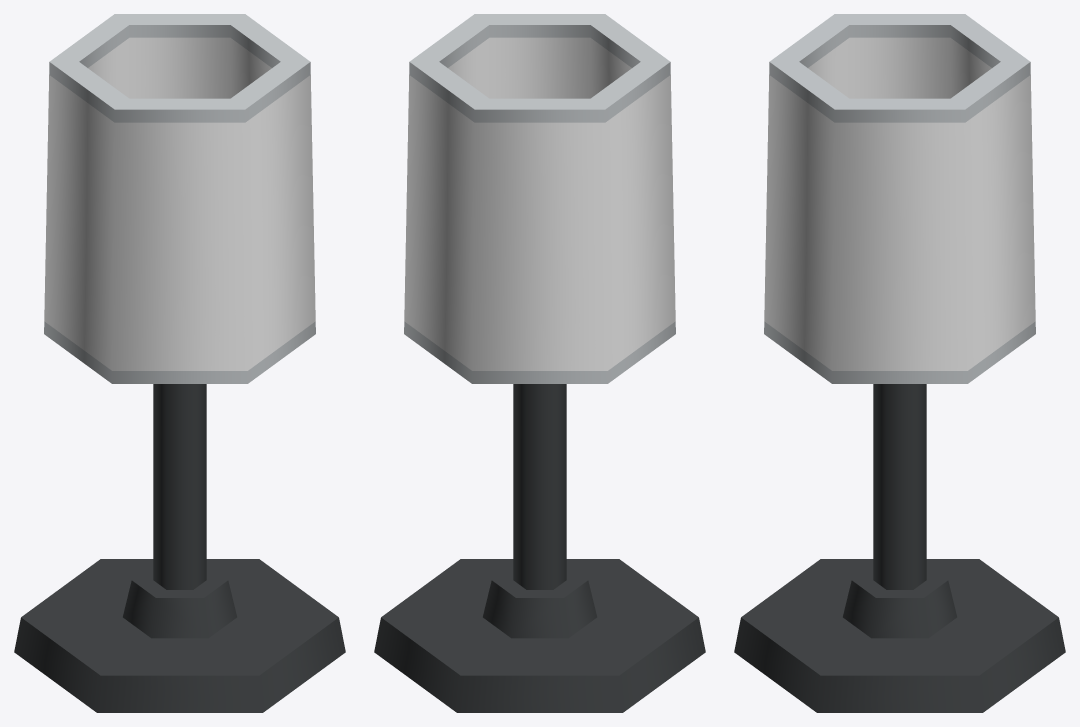
The model's file is SM_Prop_DeskLamp_06.obj.
3 renders of one model, left to right at view 1: azimuth 30°, elevation 25°; view 2: azimuth 150°, elevation 25°; view 3: azimuth 270°, elevation 25°, orthographic.
Parts seen in each view (by area): view 1: SM_Prop_DeskLamp_06_Mat_Glow_Lamp_Inst, SM_Prop_DeskLamp_06_Mat_SwatchOverlay_PolygonTown_01_Inst; view 2: SM_Prop_DeskLamp_06_Mat_Glow_Lamp_Inst, SM_Prop_DeskLamp_06_Mat_SwatchOverlay_PolygonTown_01_Inst; view 3: SM_Prop_DeskLamp_06_Mat_Glow_Lamp_Inst, SM_Prop_DeskLamp_06_Mat_SwatchOverlay_PolygonTown_01_Inst.
Part boxes in pixels (box(x1,y1,x2,y2)): SM_Prop_DeskLamp_06_Mat_Glow_Lamp_Inst: box(44, 37, 315, 370); SM_Prop_DeskLamp_06_Mat_SwatchOverlay_PolygonTown_01_Inst: box(14, 14, 345, 712); SM_Prop_DeskLamp_06_Mat_Glow_Lamp_Inst: box(404, 37, 675, 370); SM_Prop_DeskLamp_06_Mat_SwatchOverlay_PolygonTown_01_Inst: box(374, 14, 705, 712); SM_Prop_DeskLamp_06_Mat_Glow_Lamp_Inst: box(764, 37, 1035, 370); SM_Prop_DeskLamp_06_Mat_SwatchOverlay_PolygonTown_01_Inst: box(734, 14, 1065, 712).
Bounding box in the file's own units: 0.214 × 0.4853 × 0.2471.
2 materials, 1 textured.
